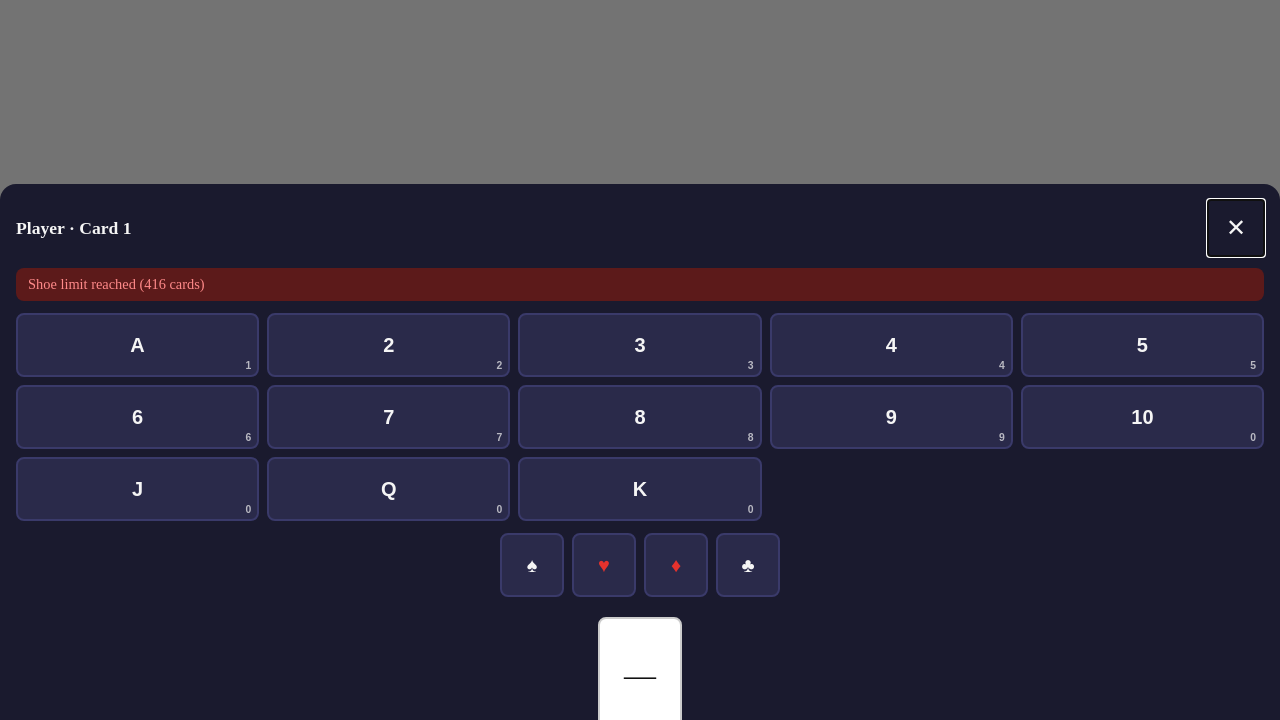
Test: CardPicker › blocks commit when blocked prop is set
Click the button with test id "rank-7". click: x=389, y=417
box: [267,385,510,449]
(page scrolled)
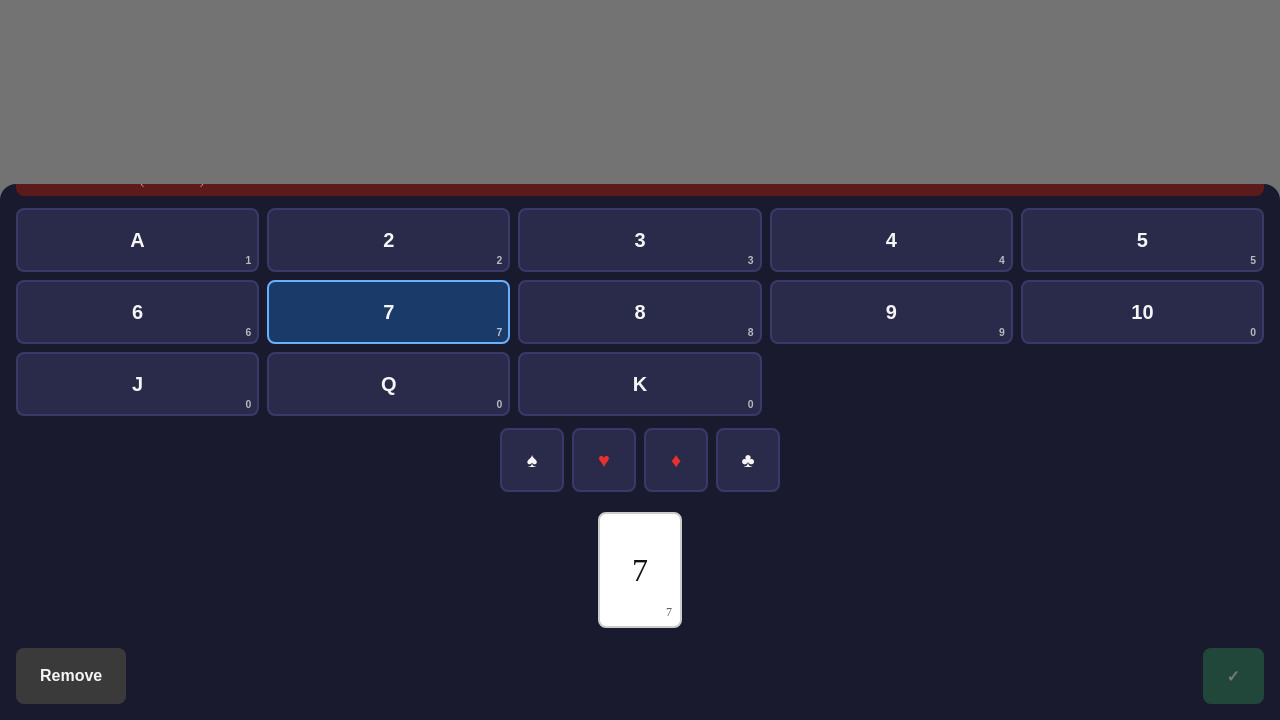
Result: the button with test id "card-picker-commit" is disabled at [1203,648,1264,704]
